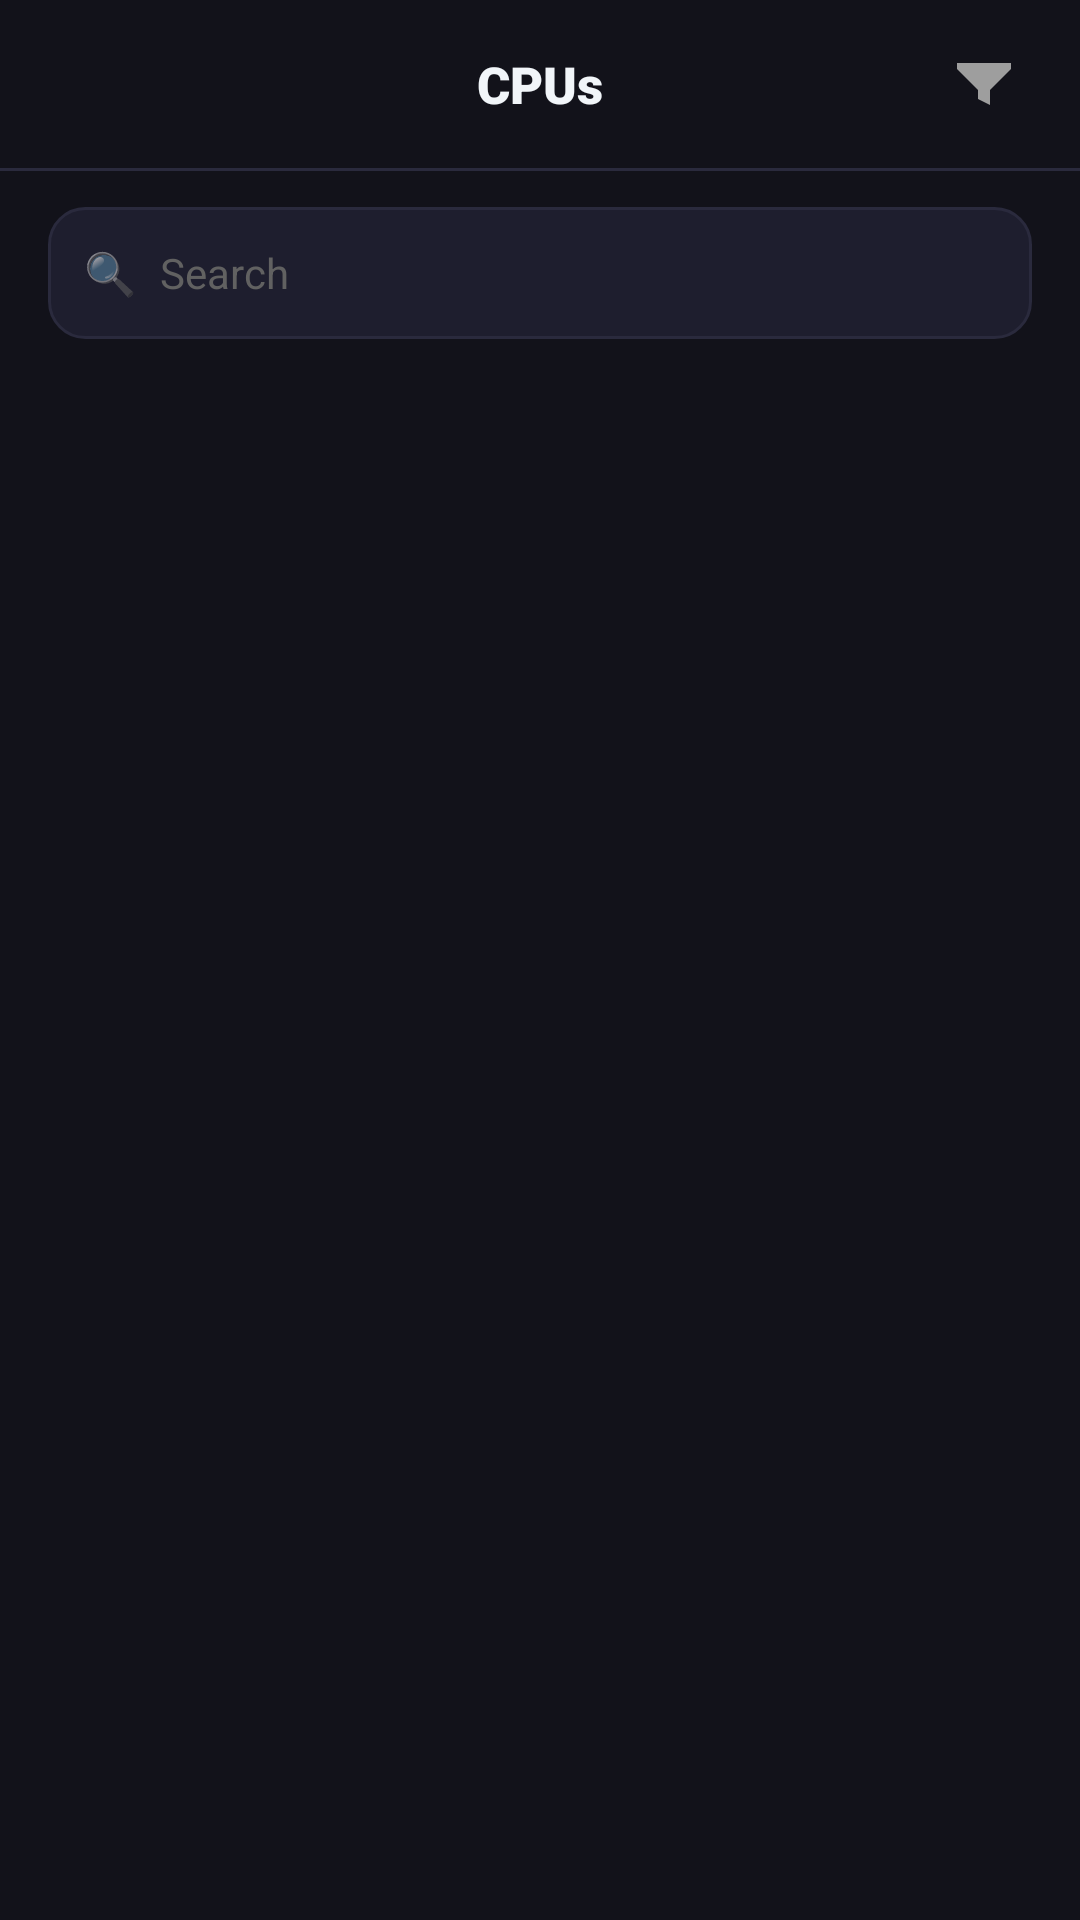

Screen size 1080 × 1920. Icon name, then its box in pixels as region(x1, y1, x2, y2):
Filter: region(957, 63, 1011, 105)
